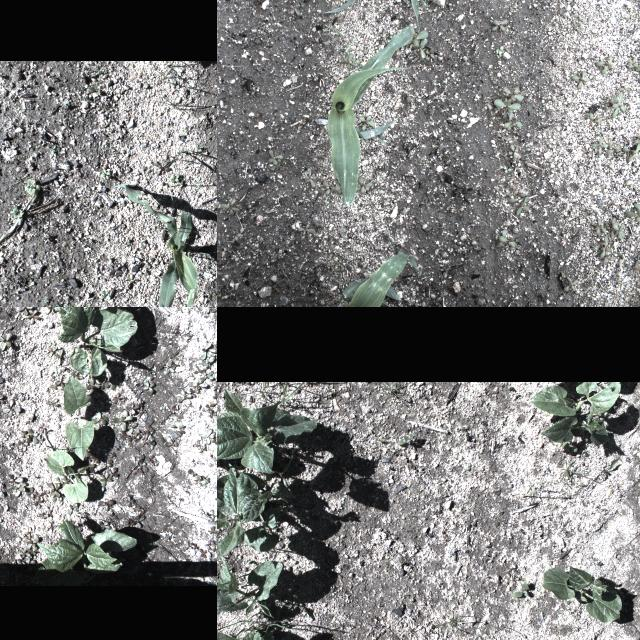crop: (328, 27, 414, 204), (115, 182, 199, 307), (217, 387, 317, 472), (530, 382, 622, 452), (217, 471, 294, 551), (57, 307, 136, 376), (36, 520, 136, 572), (542, 566, 622, 624), (217, 463, 264, 560), (341, 253, 421, 307), (217, 555, 283, 618), (63, 376, 93, 459), (46, 451, 90, 502), (322, 0, 408, 12), (396, 0, 427, 27), (40, 307, 61, 312)
weed: (562, 460, 592, 480), (22, 174, 48, 196), (442, 608, 464, 634), (7, 200, 29, 220), (592, 236, 612, 258), (344, 32, 358, 62), (494, 98, 520, 114), (106, 258, 126, 278), (408, 26, 428, 46), (503, 110, 523, 130), (594, 54, 614, 74), (112, 411, 132, 431), (281, 382, 301, 402), (611, 91, 625, 117), (220, 196, 240, 214), (570, 70, 590, 88), (503, 86, 525, 102), (55, 278, 83, 290), (3, 399, 21, 417), (512, 580, 530, 598), (353, 178, 372, 195), (624, 202, 640, 222), (602, 458, 618, 478), (516, 194, 530, 216), (253, 382, 269, 401), (625, 142, 640, 162), (343, 52, 361, 68), (92, 412, 108, 430), (396, 432, 414, 448), (324, 24, 344, 38), (188, 378, 208, 392), (386, 382, 399, 403), (201, 341, 217, 358), (154, 159, 170, 175), (592, 136, 608, 152), (138, 430, 154, 446), (304, 167, 316, 187), (40, 230, 56, 244), (86, 81, 102, 95), (360, 114, 374, 130), (268, 150, 284, 164), (613, 222, 627, 238), (563, 277, 579, 291), (9, 482, 25, 496), (26, 308, 40, 324), (176, 389, 192, 403), (418, 36, 428, 58), (498, 235, 516, 247), (22, 537, 40, 549), (0, 331, 11, 350), (594, 218, 606, 235), (497, 229, 507, 249), (163, 356, 174, 374), (168, 171, 182, 185), (166, 63, 180, 77), (606, 140, 620, 154), (130, 514, 144, 528), (46, 482, 60, 496), (86, 378, 100, 392), (492, 18, 508, 30), (627, 260, 639, 276), (202, 428, 214, 444), (270, 157, 284, 170), (298, 223, 316, 233), (98, 286, 110, 300), (100, 167, 112, 181), (323, 181, 335, 195), (100, 472, 112, 486), (54, 374, 68, 386), (601, 96, 619, 105), (50, 142, 60, 158), (198, 370, 214, 380), (98, 500, 114, 510), (7, 473, 23, 483), (198, 357, 214, 367), (94, 378, 110, 388), (180, 148, 198, 156), (627, 55, 639, 67), (188, 468, 200, 480), (26, 486, 38, 498), (127, 422, 139, 434), (193, 440, 205, 452), (46, 398, 59, 409), (168, 97, 182, 107), (509, 144, 519, 158), (98, 520, 112, 530), (28, 428, 38, 442), (144, 379, 154, 393), (125, 404, 139, 414), (101, 458, 113, 469), (508, 195, 526, 202), (291, 3, 301, 15), (436, 292, 448, 302), (588, 112, 600, 122), (610, 220, 616, 240), (33, 496, 43, 508), (66, 504, 78, 514), (108, 467, 120, 477), (17, 307, 32, 315), (208, 525, 217, 538), (41, 293, 49, 307), (578, 14, 586, 28), (572, 18, 580, 32), (137, 461, 147, 472), (621, 146, 639, 152), (414, 50, 424, 60), (165, 436, 175, 446), (176, 354, 186, 364), (206, 403, 217, 412), (90, 67, 102, 75), (426, 47, 434, 59), (19, 548, 31, 556), (36, 434, 44, 446), (56, 348, 62, 364), (458, 426, 466, 438), (333, 185, 342, 195), (112, 393, 121, 403), (127, 274, 135, 284), (28, 546, 38, 554), (52, 494, 62, 502), (18, 438, 28, 446), (208, 509, 216, 519), (197, 480, 207, 488), (138, 406, 148, 414), (72, 370, 82, 378), (49, 346, 57, 356), (196, 142, 202, 154), (200, 548, 207, 558), (208, 412, 215, 422), (168, 424, 185, 428), (211, 541, 217, 552), (20, 430, 28, 438), (202, 475, 210, 483), (498, 44, 504, 54), (38, 512, 48, 518), (466, 462, 472, 471), (213, 407, 217, 420), (635, 61, 640, 70), (112, 378, 116, 389), (620, 87, 630, 91), (636, 134, 640, 144), (202, 307, 212, 311), (205, 352, 215, 356), (213, 394, 217, 401), (214, 379, 217, 388), (160, 406, 166, 410), (639, 250, 640, 260)
